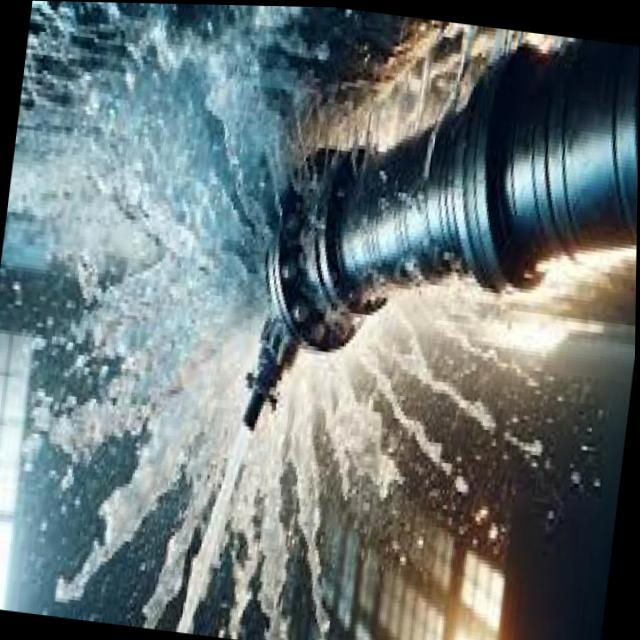leak: (8, 5, 639, 640)
